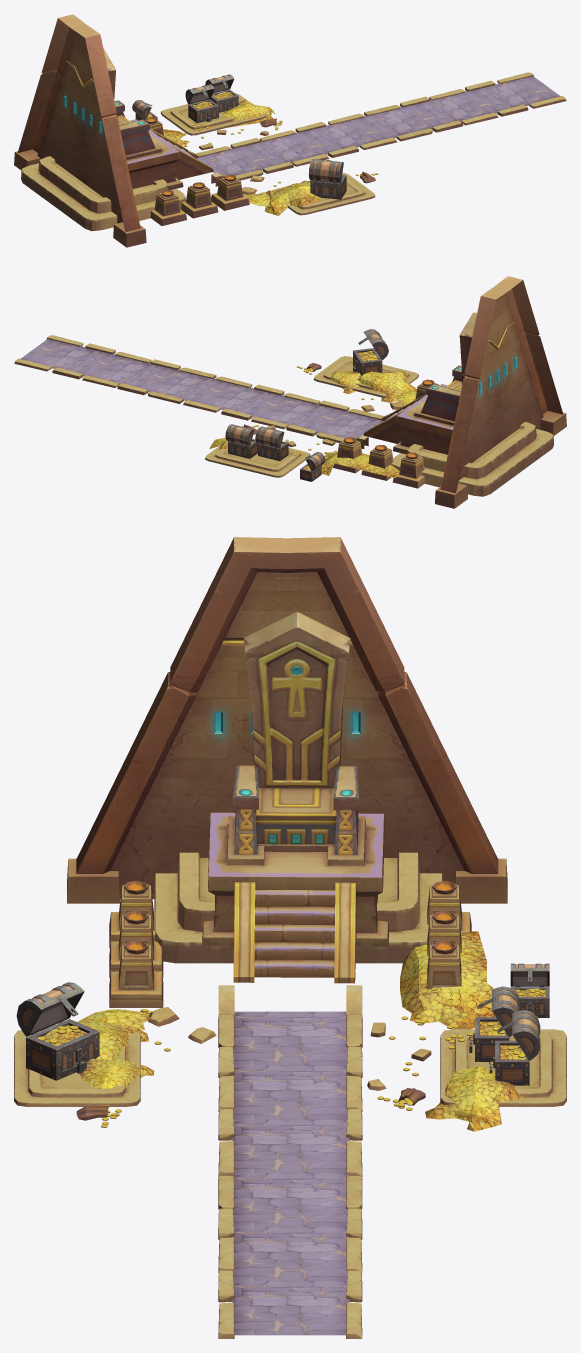
The model's file is Area_04_2.FBX.
The picture shows the model from 3 angles, top to bottom: view 1: azimuth 30°, elevation 25°; view 2: azimuth 150°, elevation 25°; view 3: azimuth 270°, elevation 25°; orthographic projection. The views are drawn at different scales.
Parts seen in each view (by area): view 1: Area_04_2; view 2: Area_04_2; view 3: Area_04_2.
Boxes of the visible parts, bbox=[...] form: Area_04_2: bbox=[14, 14, 566, 247]; Area_04_2: bbox=[14, 276, 566, 508]; Area_04_2: bbox=[14, 537, 566, 1338].
Size of the model in its own units: 4504 by 1588 by 2239.
